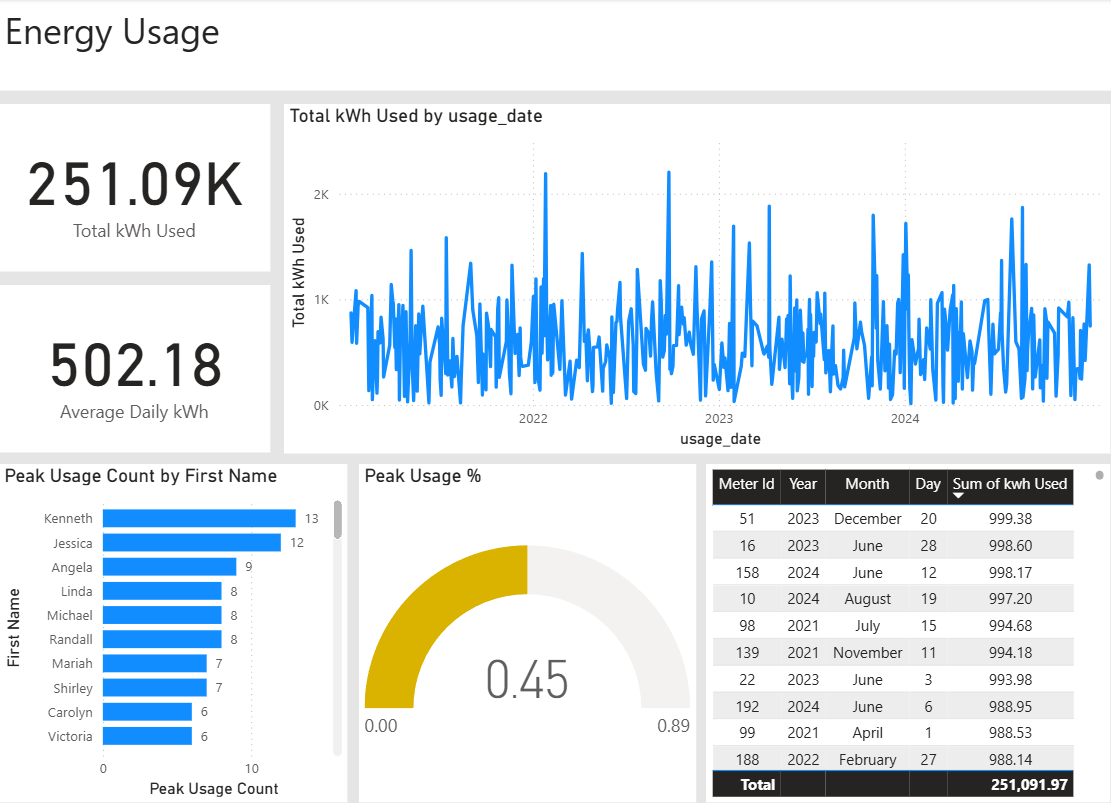

What the dashboard file says about the page in this screenshot:
{"tool":"powerbi","page":{"name":"Energy Usage","canvas":[1280,720],"ordinal":2},"visuals":[{"type":"textbox","box":[0,0,1280,81.7],"z":0},{"type":"card","fields":{"Values":["Measures (2).Total kWh Used"]},"box":[0,93.8,242.5,150],"z":1000},{"type":"card","fields":{"Values":["Measures (2).Average Daily kWh"]},"box":[0,256.2,242.5,150],"z":2000},{"type":"lineChart","fields":{"Category":["energy_usage.usage_date"],"Y":["Measures (2).Total kWh Used"]},"box":[255,93.8,740,312.5],"z":3000},{"type":"barChart","fields":{"Category":["customers.first_name"],"Y":["Measures (2).Peak Usage Count"]},"box":[0,416.3,312.2,303.5],"z":4000},{"type":"gauge","fields":{"Y":["Measures (2).Peak Usage %"]},"box":[321.9,416.3,301.5,303.5],"z":5000},{"type":"tableEx","fields":{"Values":["energy_usage.meter_id","energy_usage.usage_date.Variation.Date Hierarchy.Year","energy_usage.usage_date.Variation.Date Hierarchy.Month","energy_usage.usage_date.Variation.Date Hierarchy.Day","Sum(energy_usage.kwh_used)"]},"box":[633.2,416.3,361.8,303.5],"z":6000}]}

Visuals, with their boxes on the page's 1280x720 design canvas (x1, y1, x2, y2). These are canvas units, not pixel positions in the 1111x803 screenshot, which may show the page scaled, cropped or inside an application window:
textbox: {"left": 0, "top": 0, "right": 1280, "bottom": 82}
card - Measures (2).Total kWh Used: {"left": 0, "top": 94, "right": 242, "bottom": 244}
card - Measures (2).Average Daily kWh: {"left": 0, "top": 256, "right": 242, "bottom": 406}
lineChart - energy_usage.usage_date x Measures (2).Total kWh Used: {"left": 255, "top": 94, "right": 995, "bottom": 406}
barChart - customers.first_name x Measures (2).Peak Usage Count: {"left": 0, "top": 416, "right": 312, "bottom": 720}
gauge - Measures (2).Peak Usage %: {"left": 322, "top": 416, "right": 623, "bottom": 720}
tableEx - energy_usage.meter_id x energy_usage.usage_date.Variation.Date Hierarchy.Year: {"left": 633, "top": 416, "right": 995, "bottom": 720}
